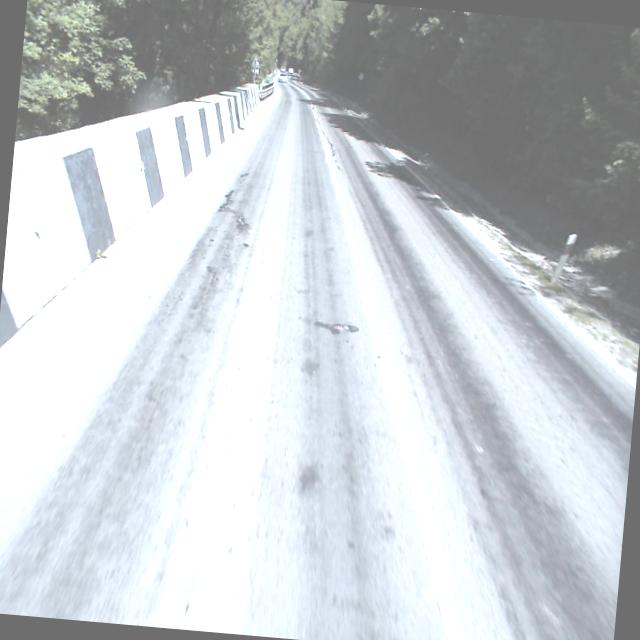road: (0, 71, 636, 640)
